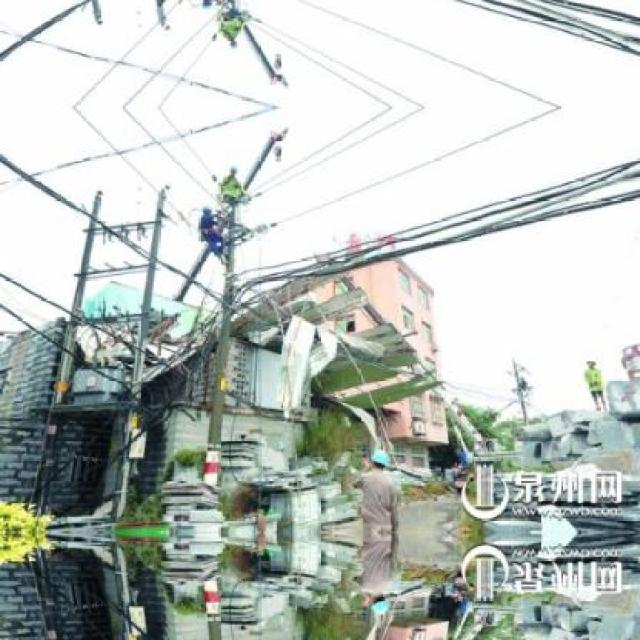helmet: (369, 446, 388, 474), (369, 588, 388, 615)
